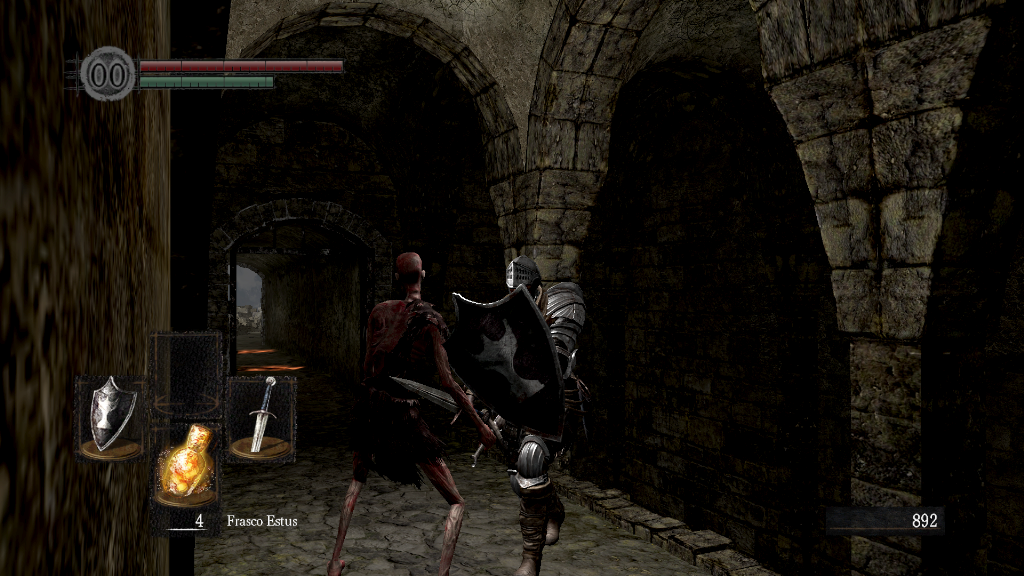health: (138, 58, 343, 71)
hollow: (331, 247, 503, 576)
humanity: (80, 45, 136, 102)
player: (387, 256, 590, 576)
souls: (825, 506, 945, 536)
stamina: (138, 74, 274, 88)
